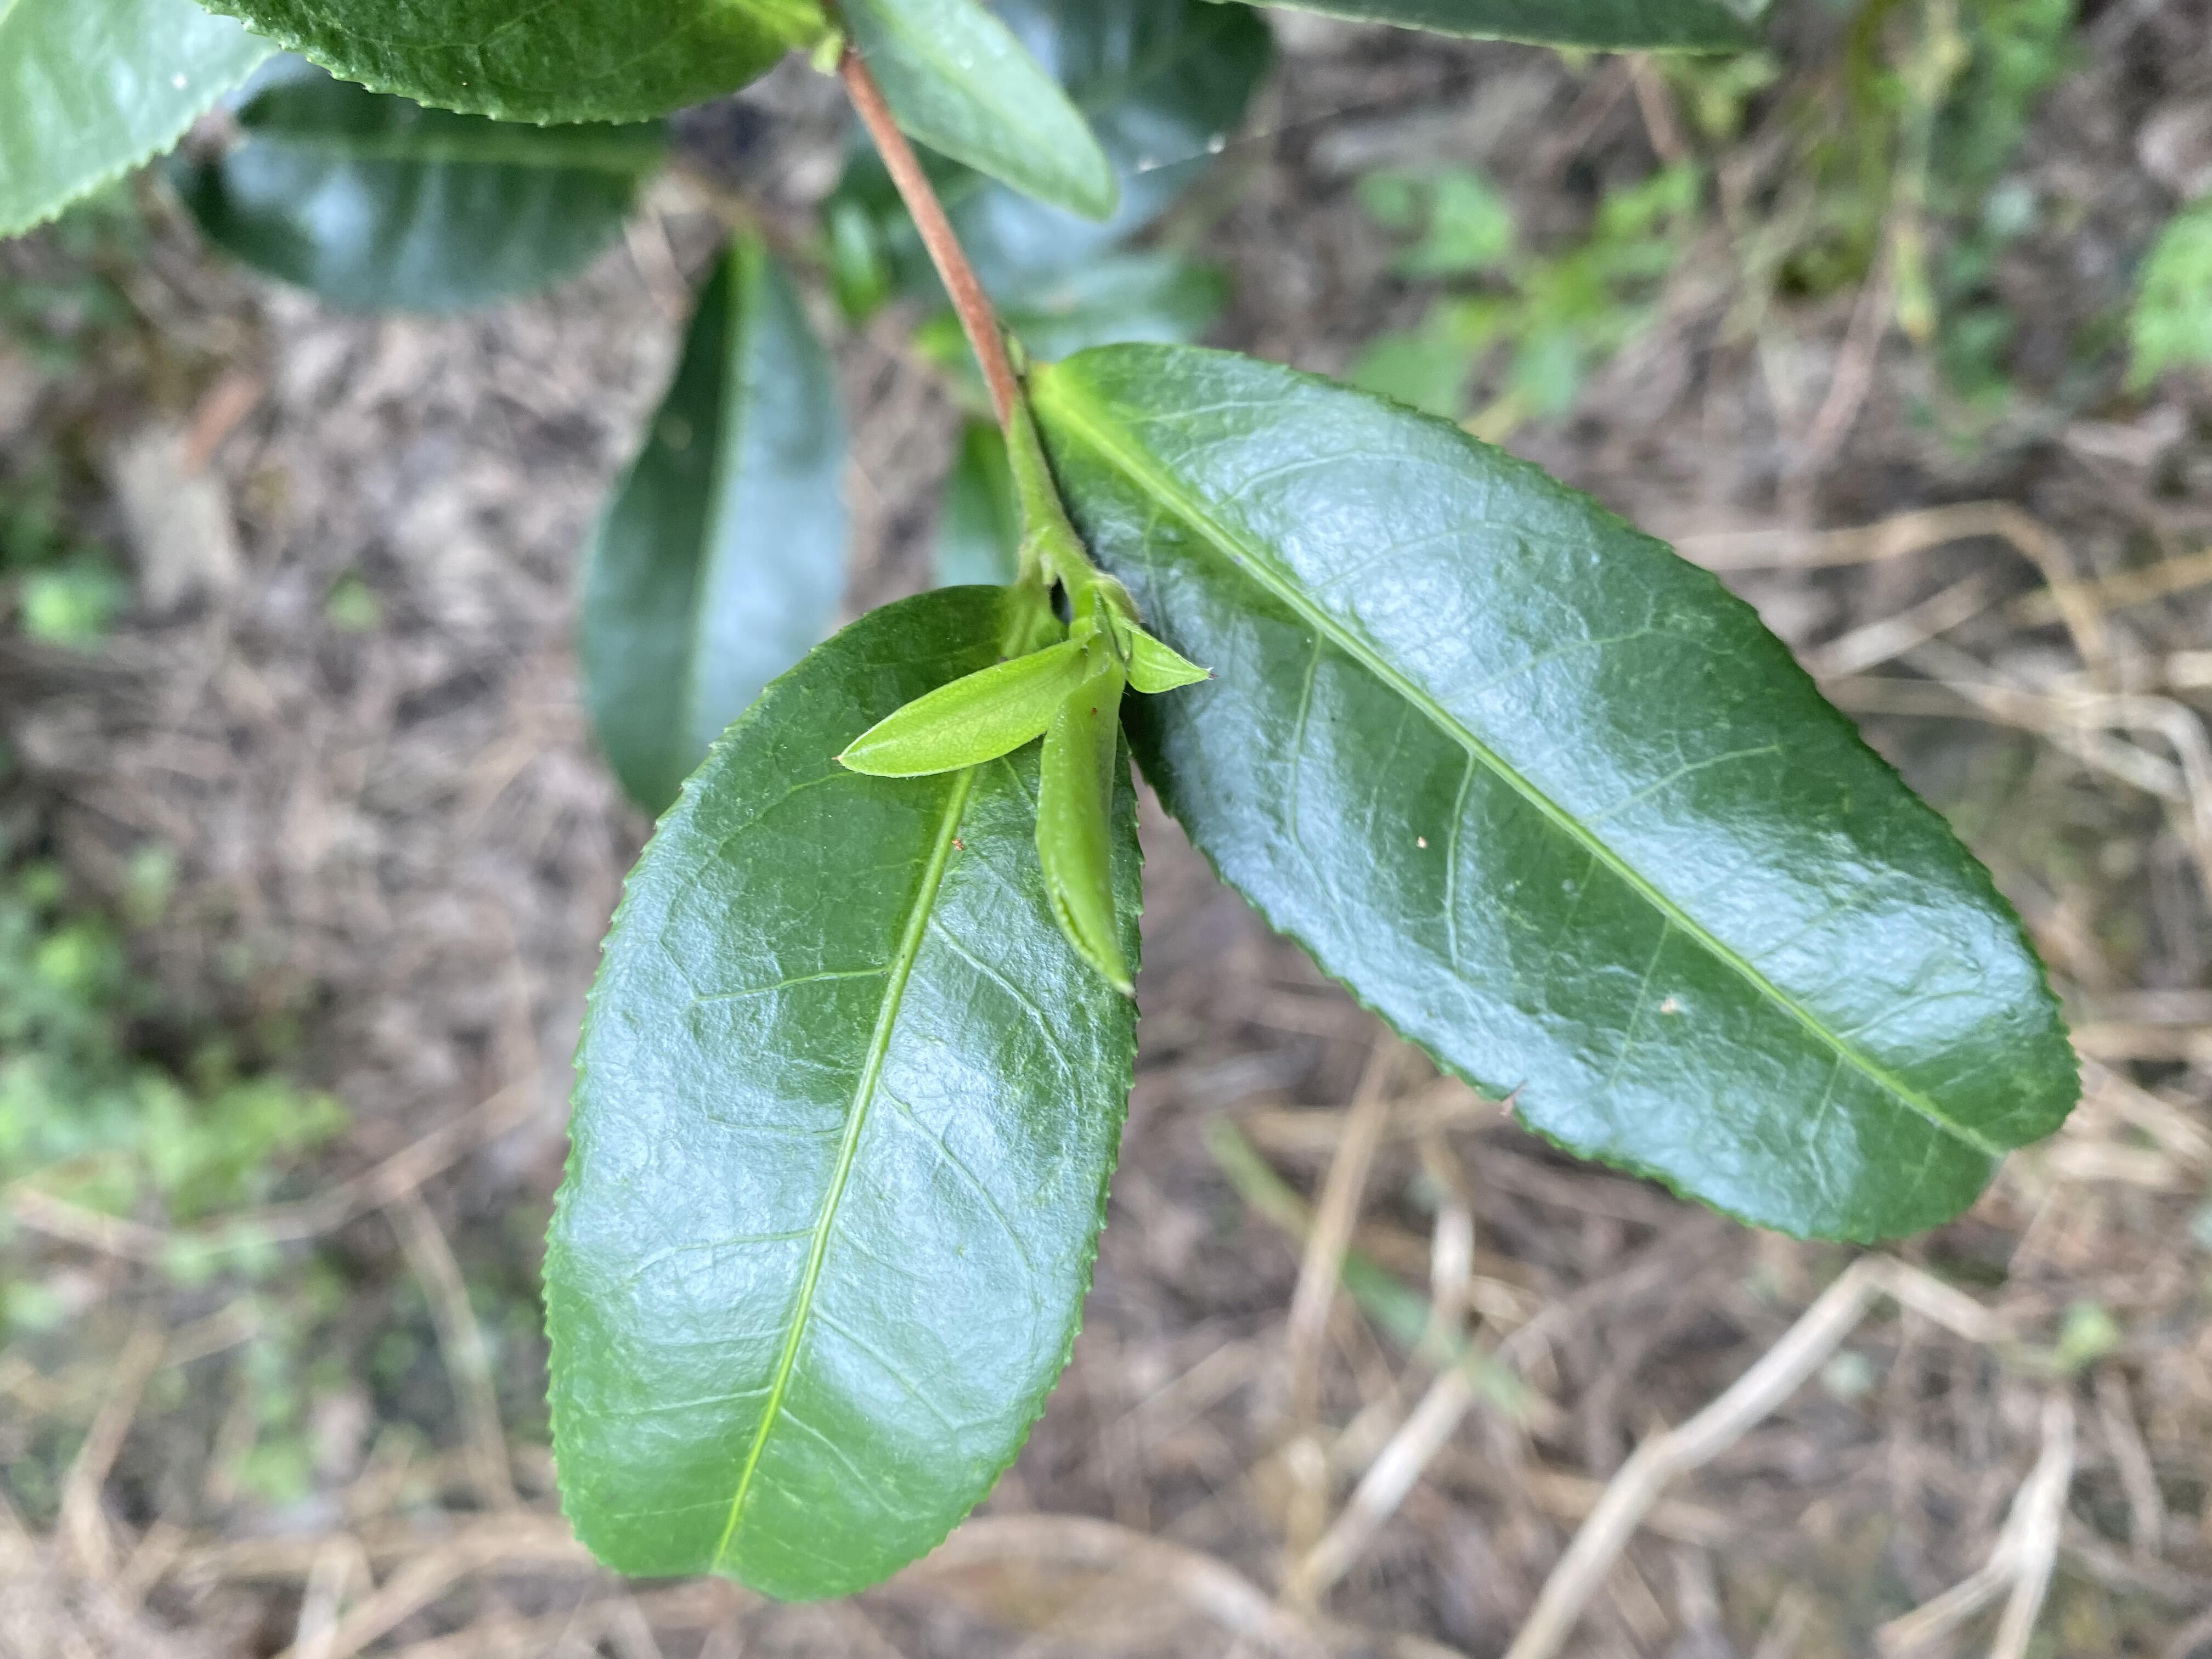healthy: (538, 580, 1148, 1607)
tanju_low: (1029, 342, 2083, 1246)
